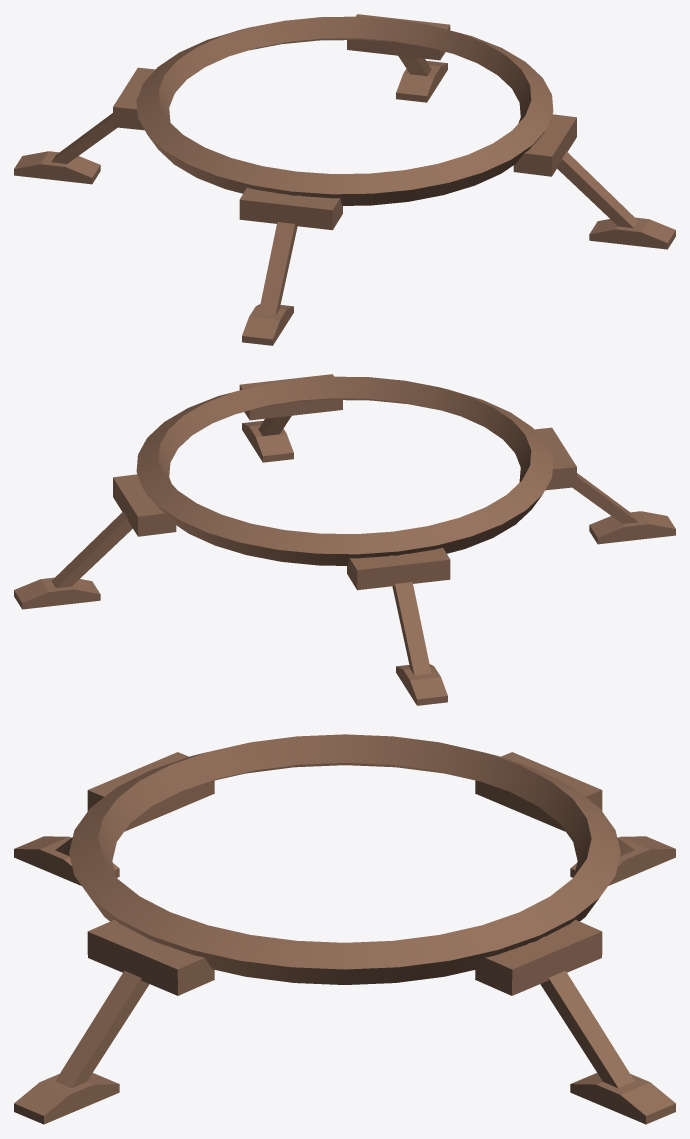
Rendered from quaternius-ultimate-space-house-single-support-transformed.glb.
3 renders of one model, top to bottom at view 1: azimuth 30°, elevation 25°; view 2: azimuth 150°, elevation 25°; view 3: azimuth 270°, elevation 25°, orthographic. The views are drawn at different scales.
Parts seen in each view (by area): view 1: House_Single_Support; view 2: House_Single_Support; view 3: House_Single_Support.
Part boxes in pixels (<box>): House_Single_Support: <box>14,14,675,345</box>; House_Single_Support: <box>14,374,675,705</box>; House_Single_Support: <box>14,734,675,1124</box>.
Size of the model in its own units: 3.58 by 0.8718 by 3.58.
1 material, 1 textured.
